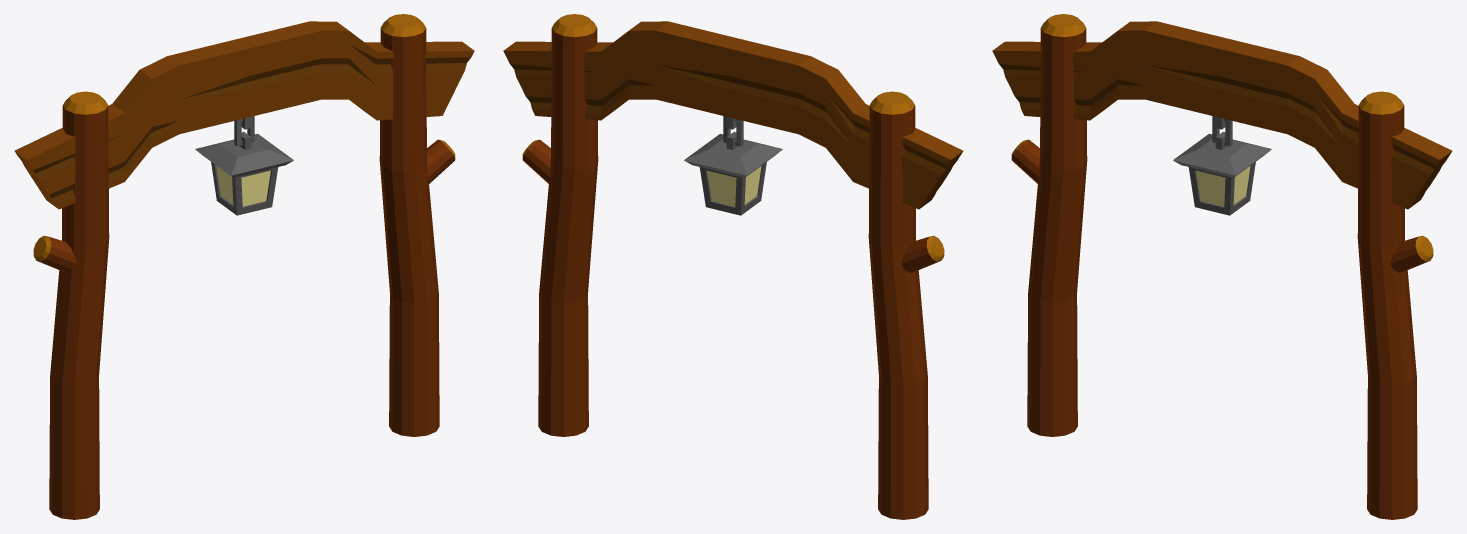
Rendered from ShipGate.fbx.
3 views of the same model, side by side, from view 1: azimuth 30°, elevation 25°; view 2: azimuth 150°, elevation 25°; view 3: azimuth 330°, elevation 25° (orthographic).
Visible parts, largest first — view 1: VillageGate_01; view 2: VillageGate_01; view 3: VillageGate_01.
Part boxes in pixels (x1,y1,x2,y2): VillageGate_01: (14,14,474,519); VillageGate_01: (503,14,963,519); VillageGate_01: (992,14,1452,519).
Bounding box in the file's own units: 40.85 × 37 × 5.76.
1 material, 1 textured.
